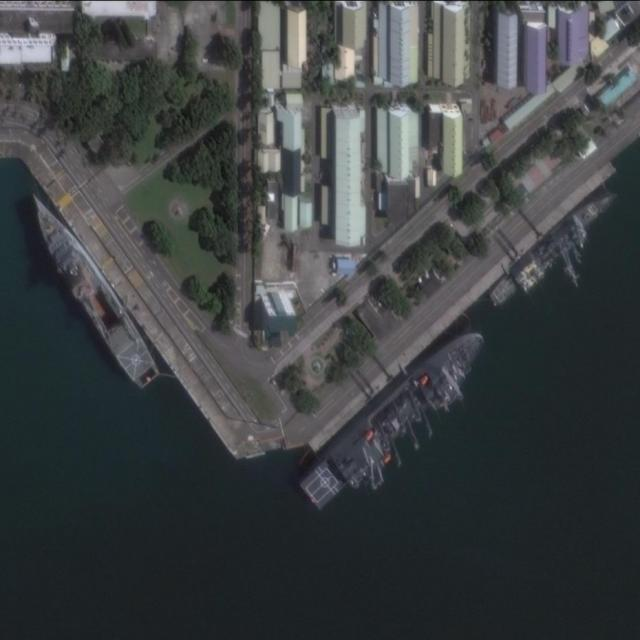Commander: (289, 317, 511, 528)
Other Warship: (17, 184, 167, 394), (487, 182, 623, 310)
